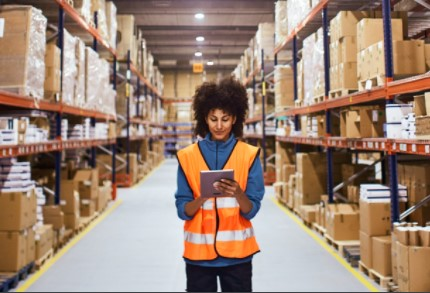worker: (177, 84, 262, 261)
